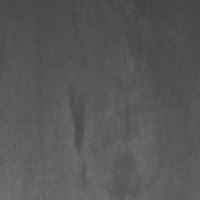inclusion: (60, 75, 93, 161), (117, 87, 140, 148)
